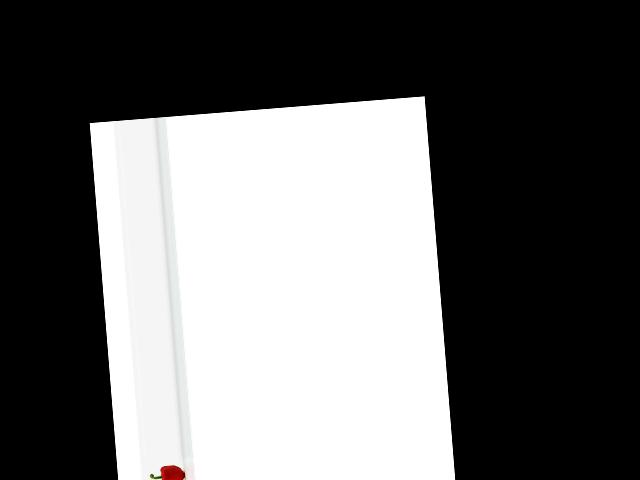bell_pepper: (146, 458, 189, 480)
